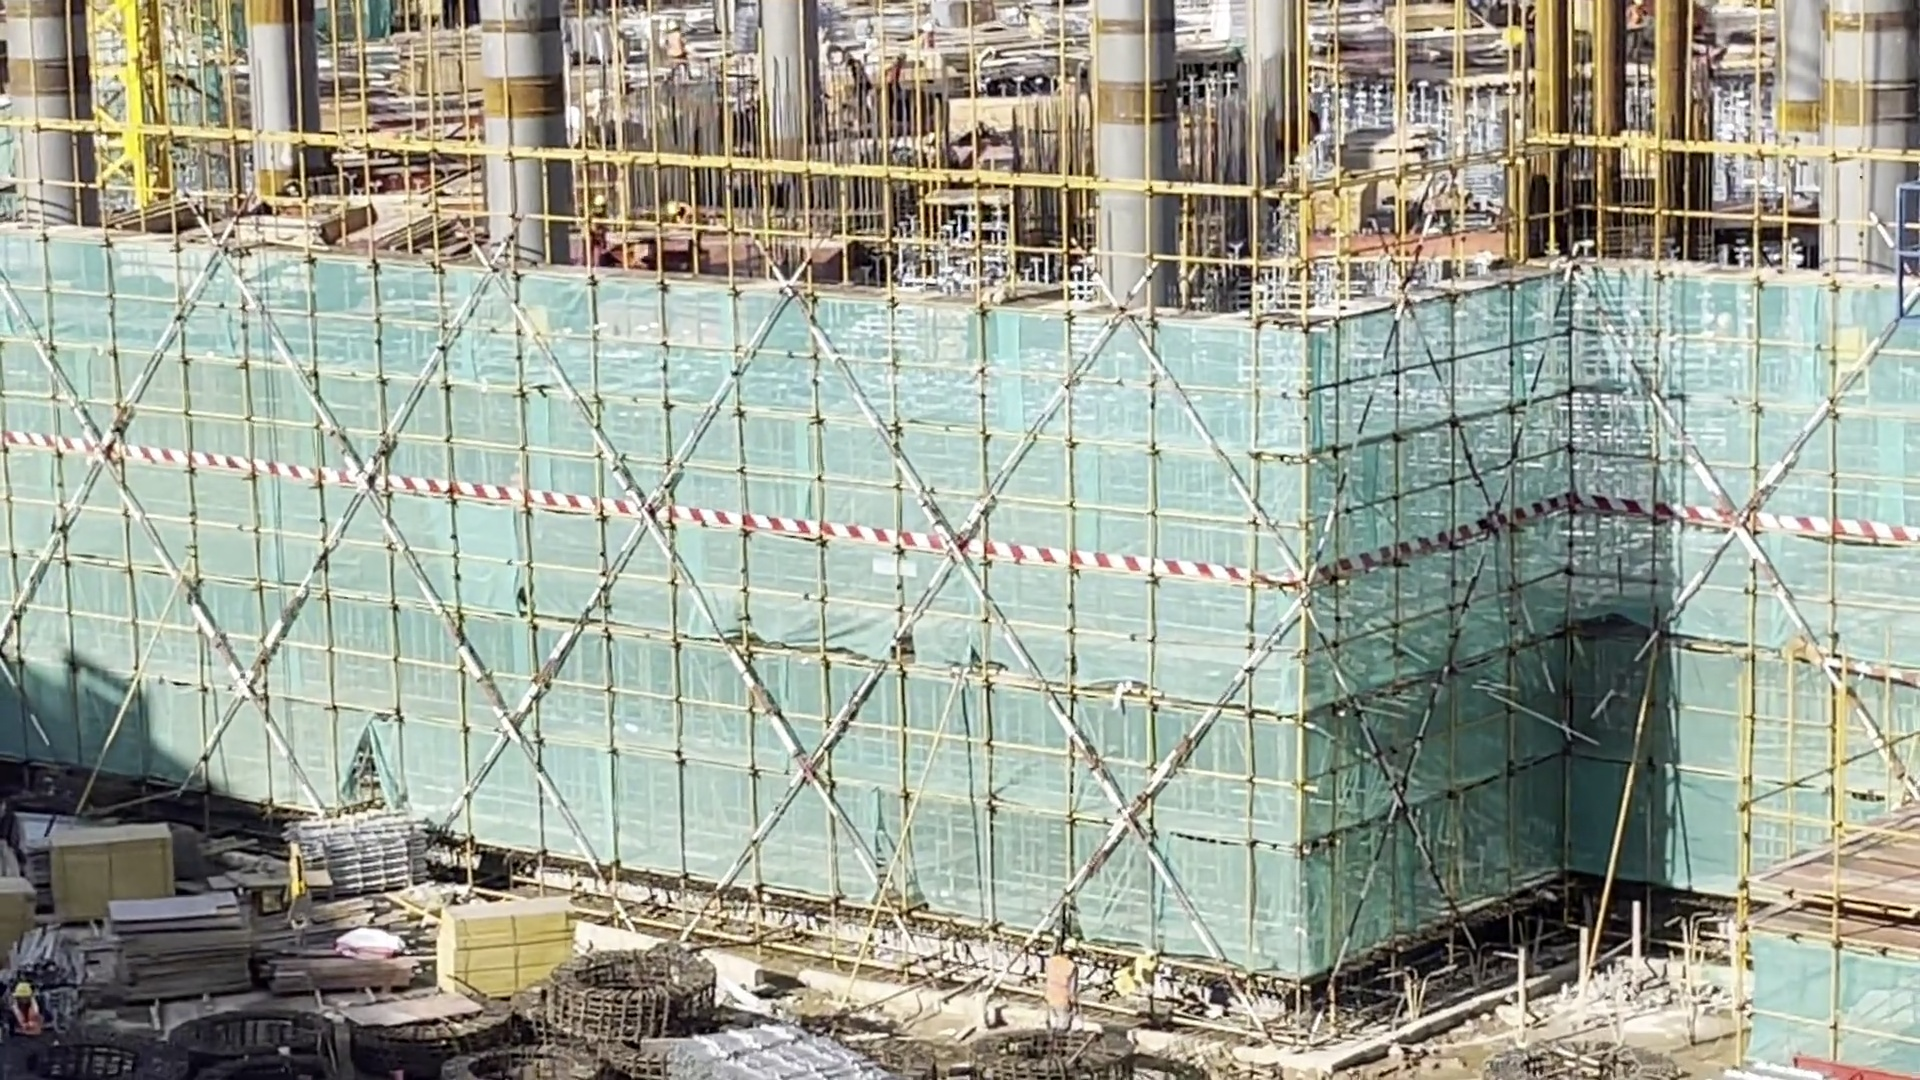board: (112, 901, 252, 992), (50, 824, 187, 911), (439, 903, 567, 989)
helmet: (11, 985, 33, 1004)
person: (1042, 937, 1082, 1037), (8, 981, 44, 1037), (588, 196, 606, 254), (666, 24, 688, 66)
scaffold: (670, 1024, 892, 1080), (296, 823, 433, 891)
vest: (11, 1015, 44, 1034)
